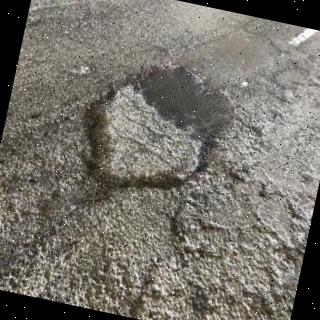pothole: (83, 65, 233, 191)
